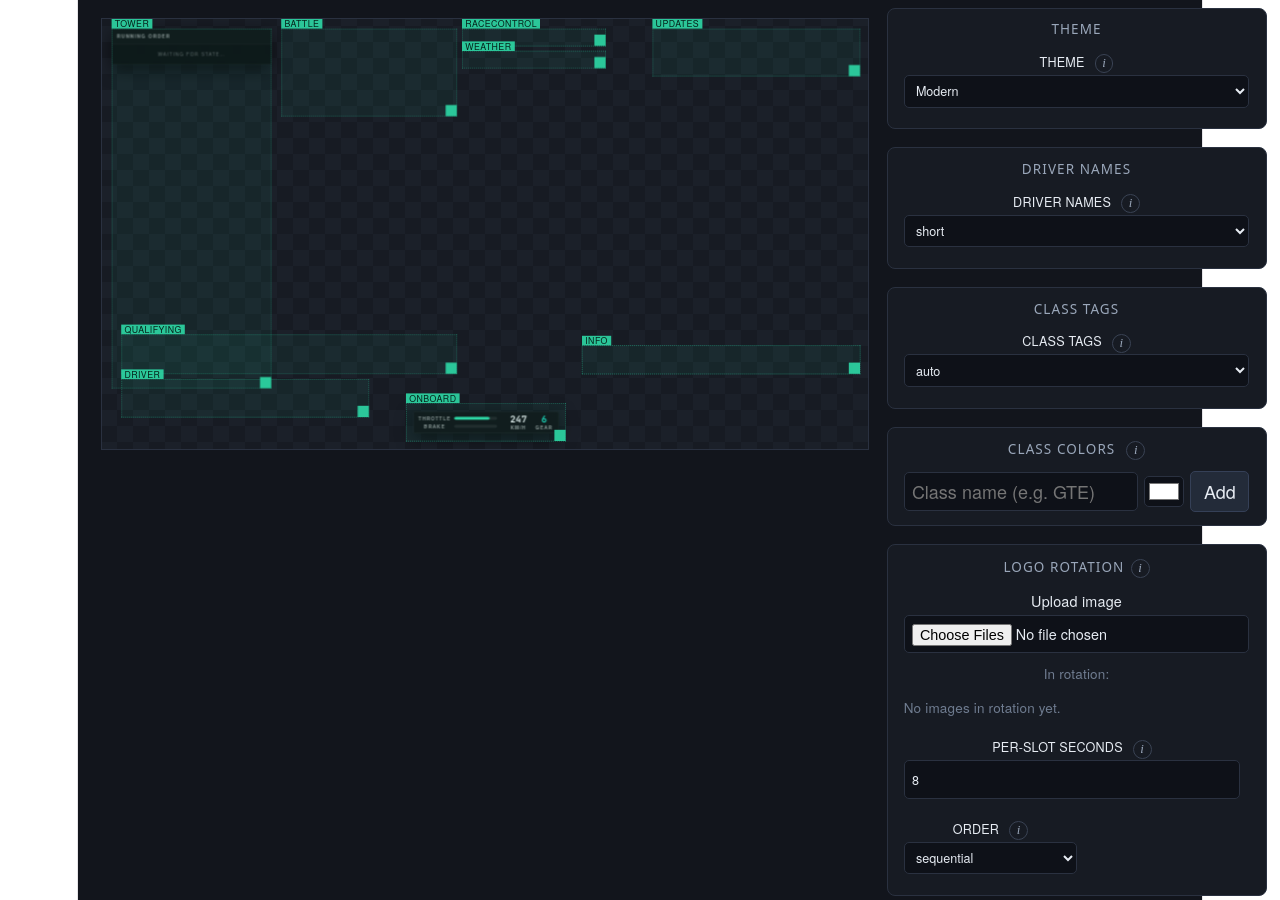
Test case: config editor: class color overrides — freeform, no seeded rows › has help copy for the class-color control, hidden until asked
(page scrolled)
What coordinates should you click on to do the following:
click the button with test id "help-class-colors"
I would click on:
 (1136, 451)
Its box is [1126,441,1145,460].
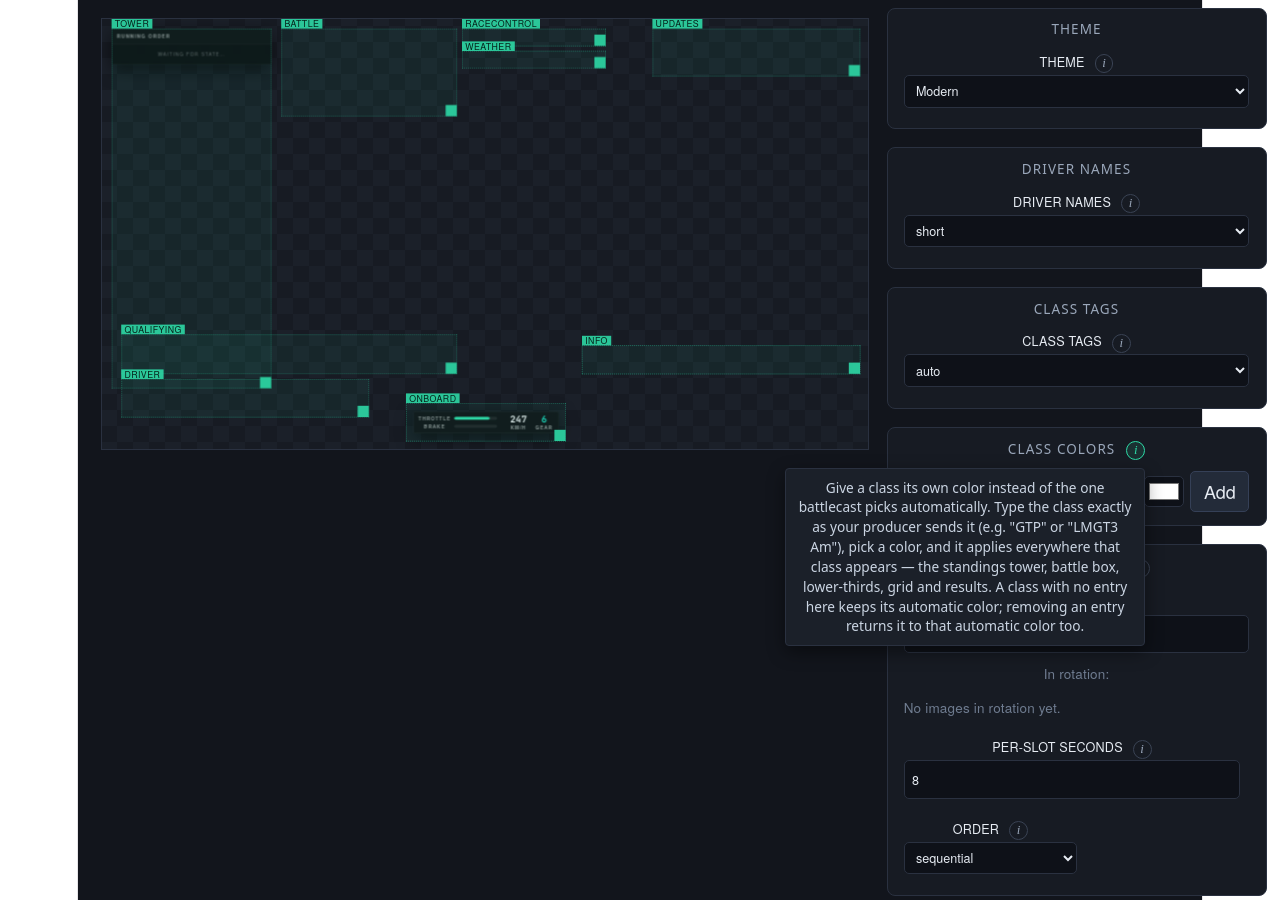
Now the tooltip with test id "help-class-colors-text" is shown, box [785,468,1145,646]
